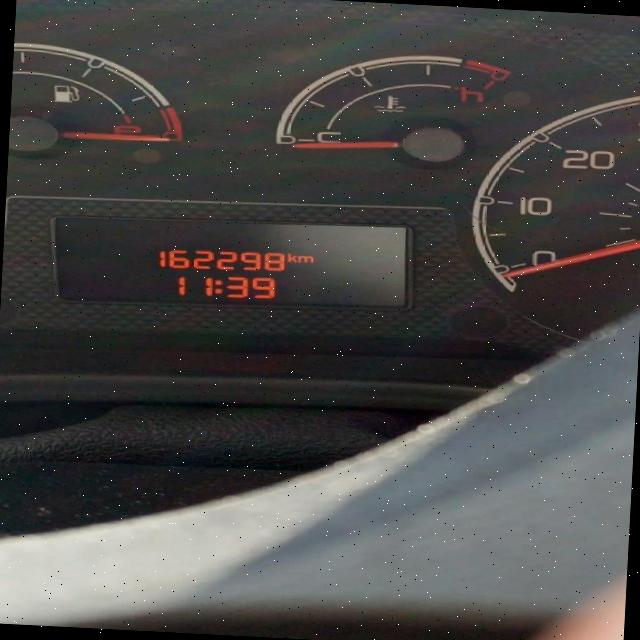odometer: (39, 204, 418, 322)
